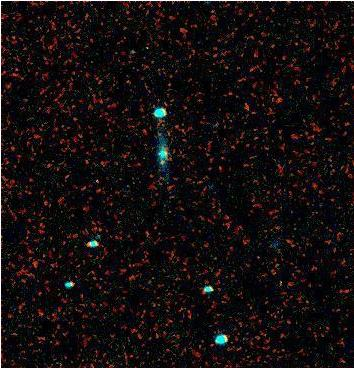star: (146, 145, 176, 175)
